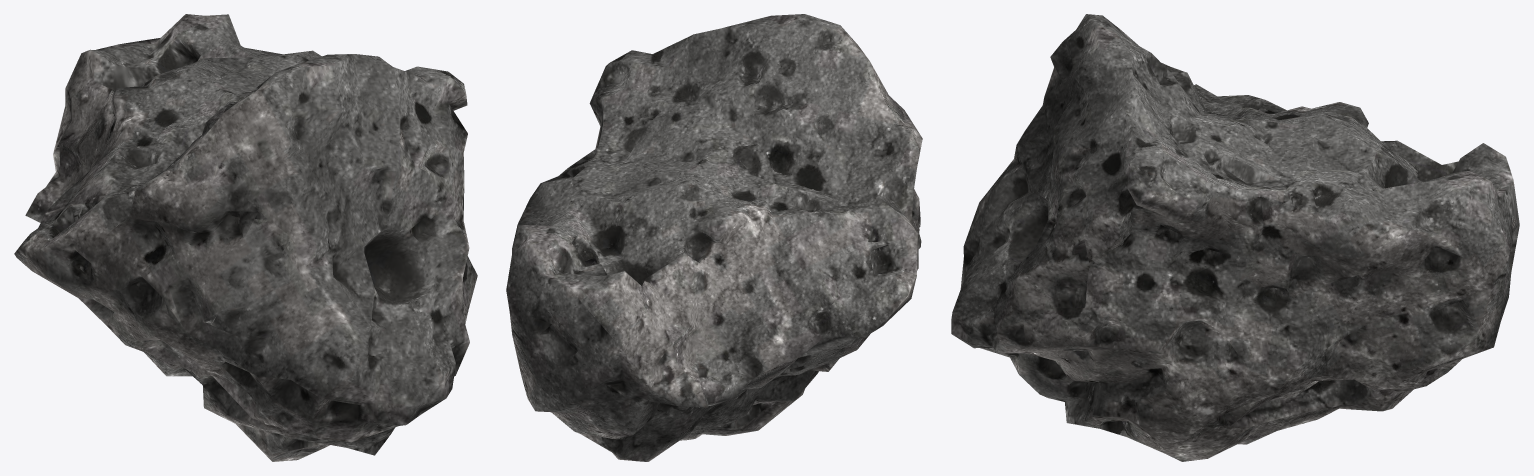
The model's file is moon-rock-a11-10022.glb.
3 renders of one model, left to right at view 1: azimuth 30°, elevation 25°; view 2: azimuth 150°, elevation 25°; view 3: azimuth 270°, elevation 25°, orthographic. The views are drawn at different scales.
Parts seen in each view (by area): view 1: moon-rock-a11-10022_LOD0; view 2: moon-rock-a11-10022_LOD0; view 3: moon-rock-a11-10022_LOD0.
Part boxes in pixels (<box>): moon-rock-a11-10022_LOD0: <box>14,14,477,461</box>; moon-rock-a11-10022_LOD0: <box>506,14,922,461</box>; moon-rock-a11-10022_LOD0: <box>951,14,1519,461</box>.
Size of what is drawn, in the model's own units: 1.19 by 1.29 by 1.59.
1 material, 1 textured.
